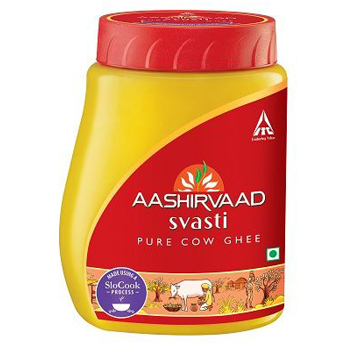VEG: (265, 247, 279, 261)
